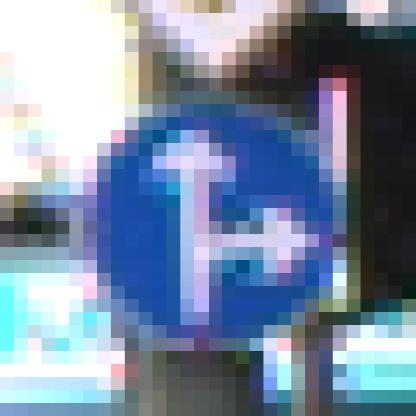Straight or Right: (70, 79, 334, 339)
